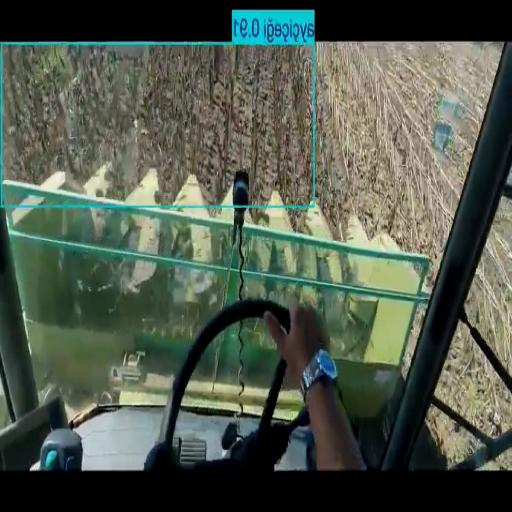ayc: (2, 47, 315, 204), (3, 47, 311, 204)
